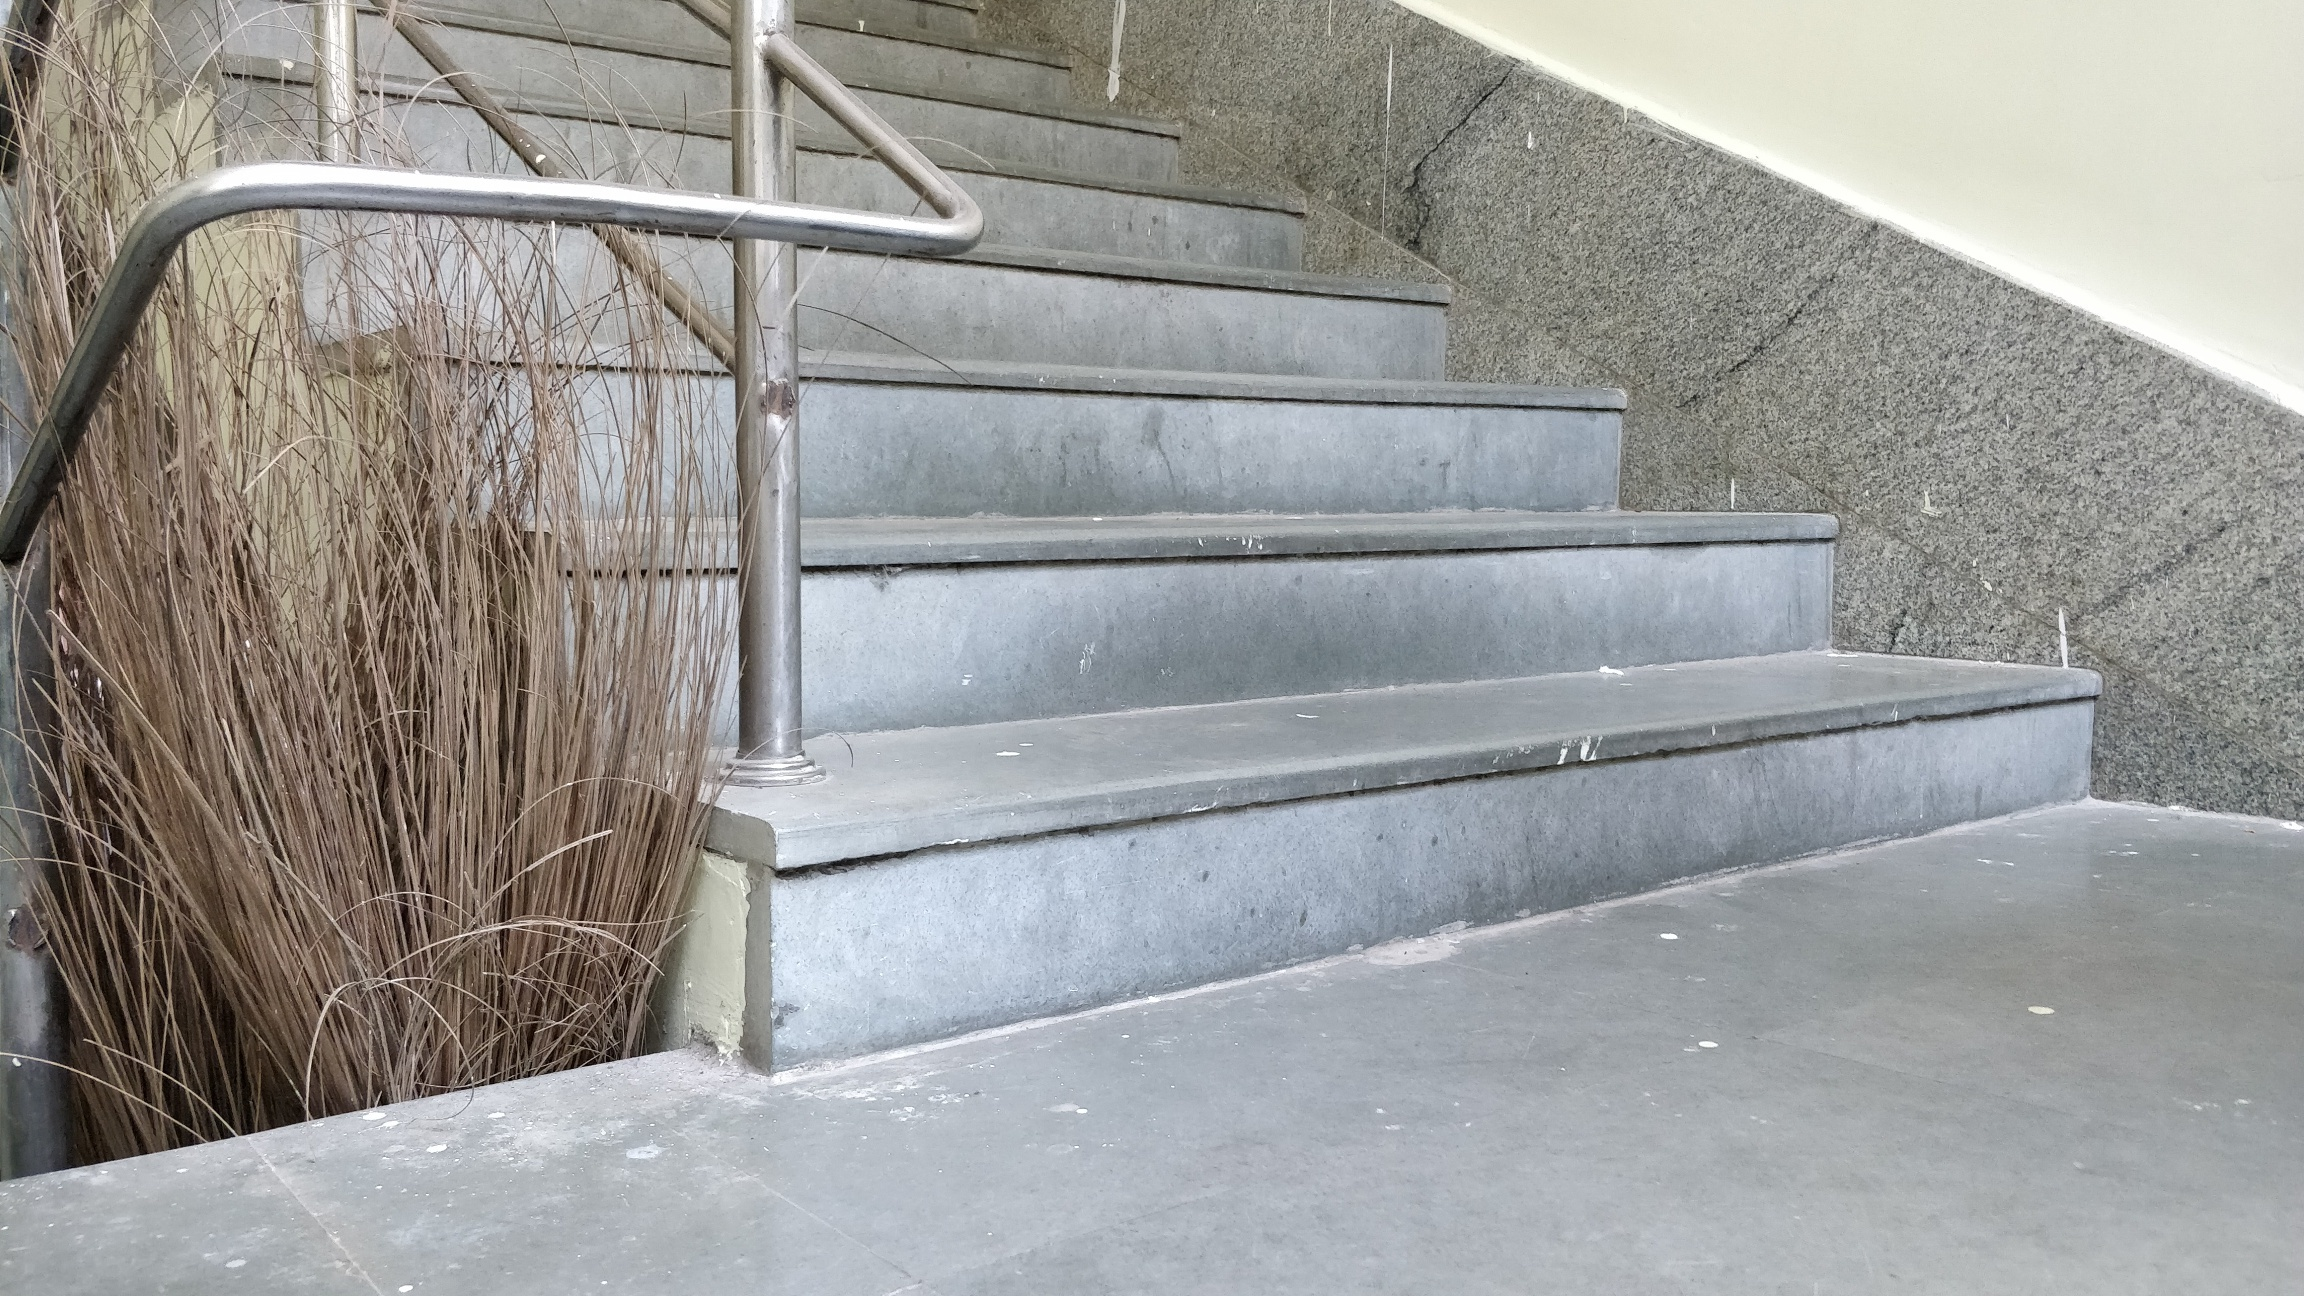stairs_up: (321, 6, 2100, 870)
